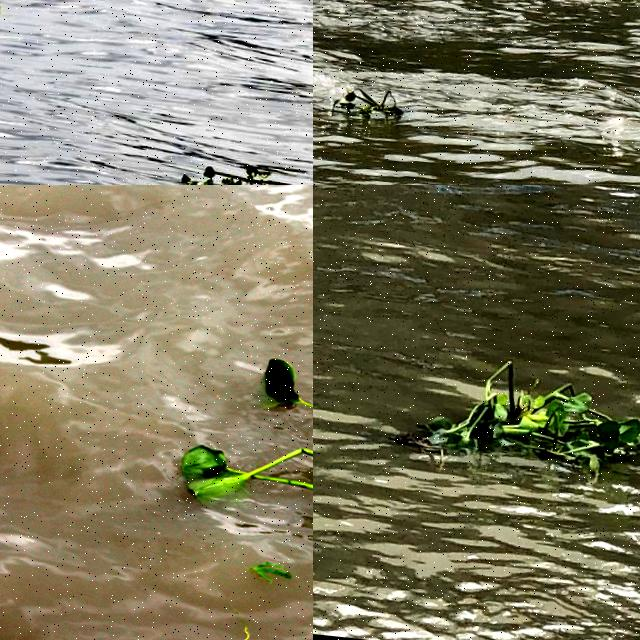water-hyacinth: (157, 335, 314, 573), (410, 344, 640, 493), (316, 75, 415, 135), (186, 152, 304, 186)
